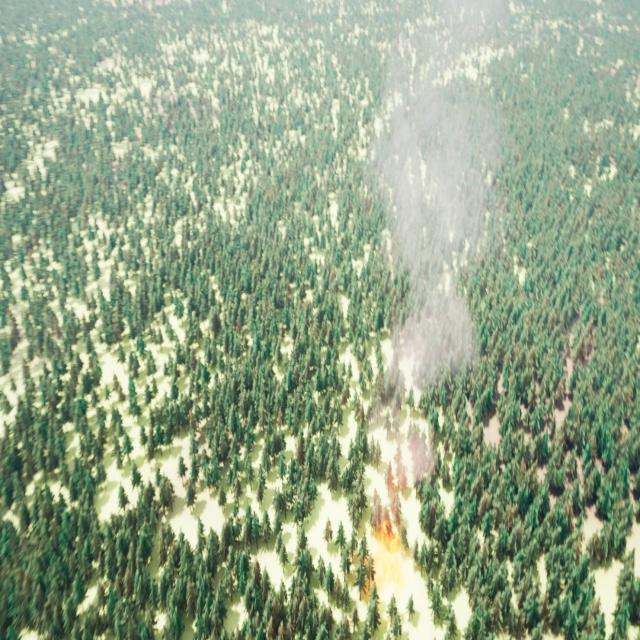fire: (371, 511, 399, 554)
smoke: (372, 0, 511, 509)
